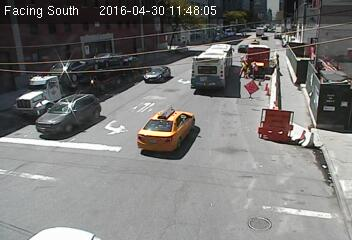neg: (57, 98, 101, 156), (12, 100, 42, 141), (103, 61, 133, 101), (253, 37, 281, 73), (205, 110, 230, 144), (284, 168, 308, 201), (178, 175, 202, 207), (53, 32, 77, 64), (52, 188, 75, 219), (301, 61, 324, 92), (157, 101, 179, 130), (194, 61, 216, 90), (260, 176, 276, 198), (268, 106, 280, 122)
